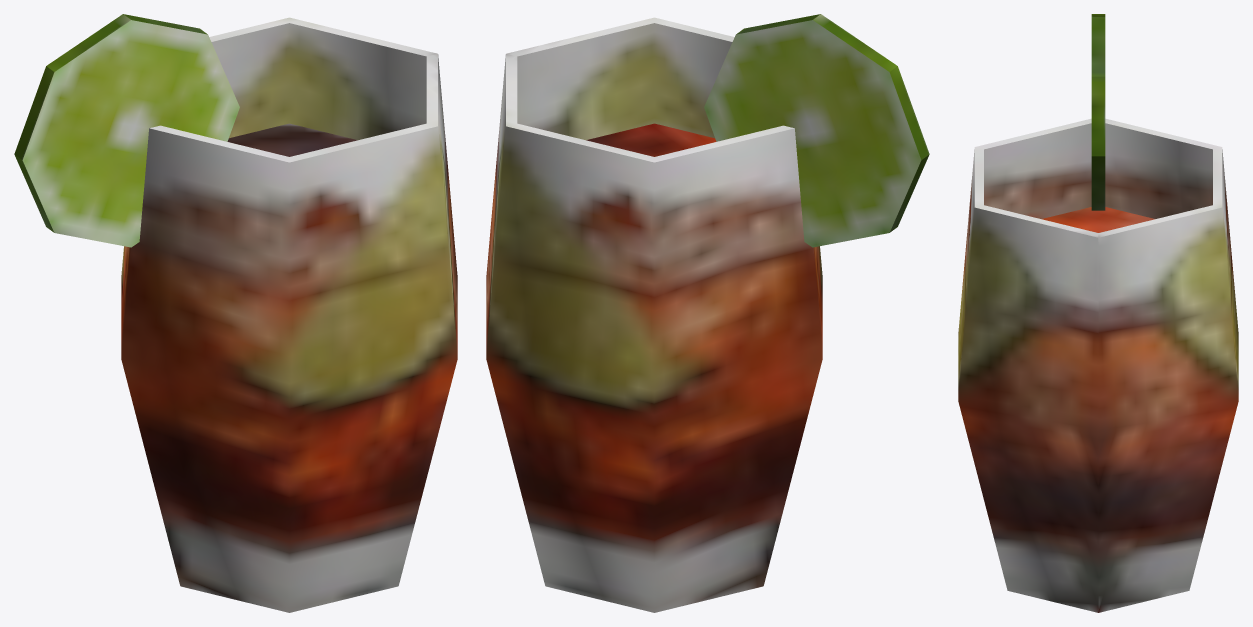
File: DrinkV3.fbx
3 views of the same model, side by side, from view 1: azimuth 30°, elevation 25°; view 2: azimuth 150°, elevation 25°; view 3: azimuth 270°, elevation 25° (orthographic). The views are drawn at different scales.
Parts seen in each view (by area): view 1: Cocktails.015; view 2: Cocktails.015; view 3: Cocktails.015.
Part boxes in pixels (x1,y1,x2,y2): Cocktails.015: (14,14,457,612); Cocktails.015: (486,14,929,612); Cocktails.015: (958,14,1238,612).
Size of the model in its own units: 0.2172 by 0.2752 by 0.1441.
